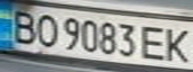0: (78, 16, 100, 54)
3: (115, 20, 142, 58)
8: (97, 18, 118, 56)
9: (57, 15, 81, 52)
B: (6, 7, 42, 45)
E: (139, 23, 172, 62)
K: (160, 25, 193, 65)
O: (30, 11, 60, 48)
